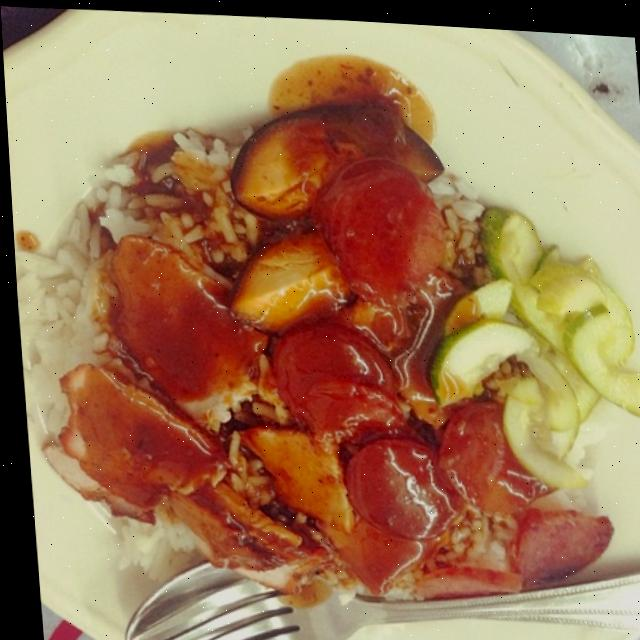猪肉菜式: (14, 19, 640, 640)
